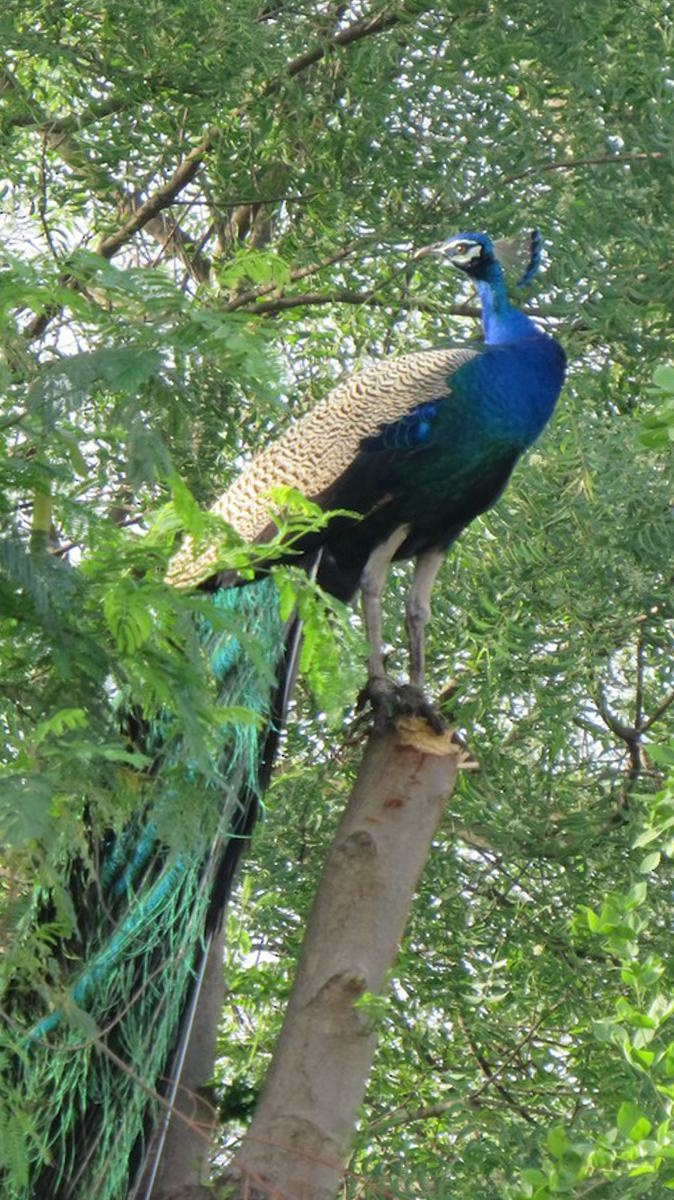peacock: (33, 191, 591, 869)
